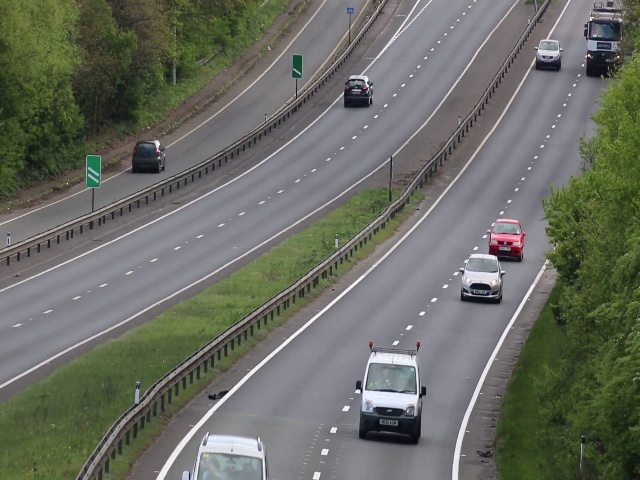car: (359, 344, 424, 444), (186, 433, 270, 480), (462, 254, 503, 306), (586, 23, 619, 79), (487, 217, 526, 260), (131, 139, 167, 175), (532, 38, 564, 70), (344, 73, 373, 107)
